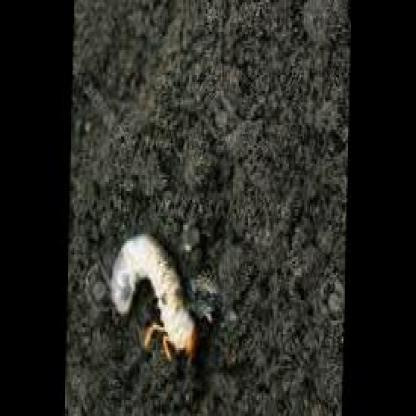root grubs: (112, 233, 195, 353)
